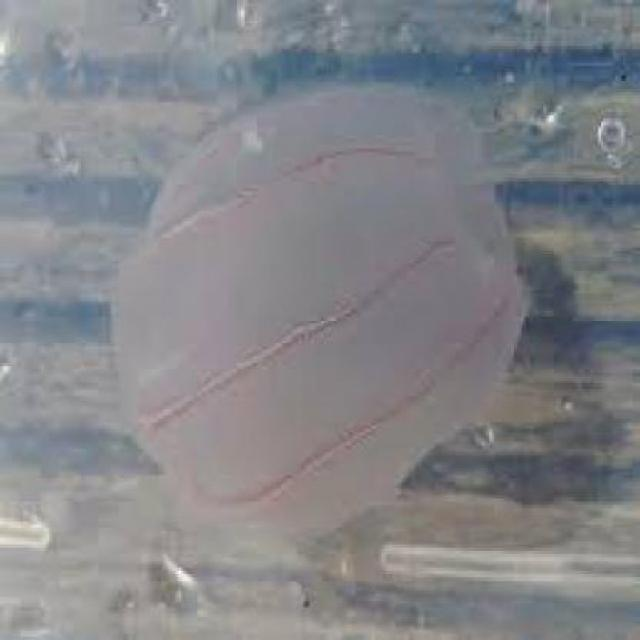Jellyfish: (104, 76, 532, 535)
